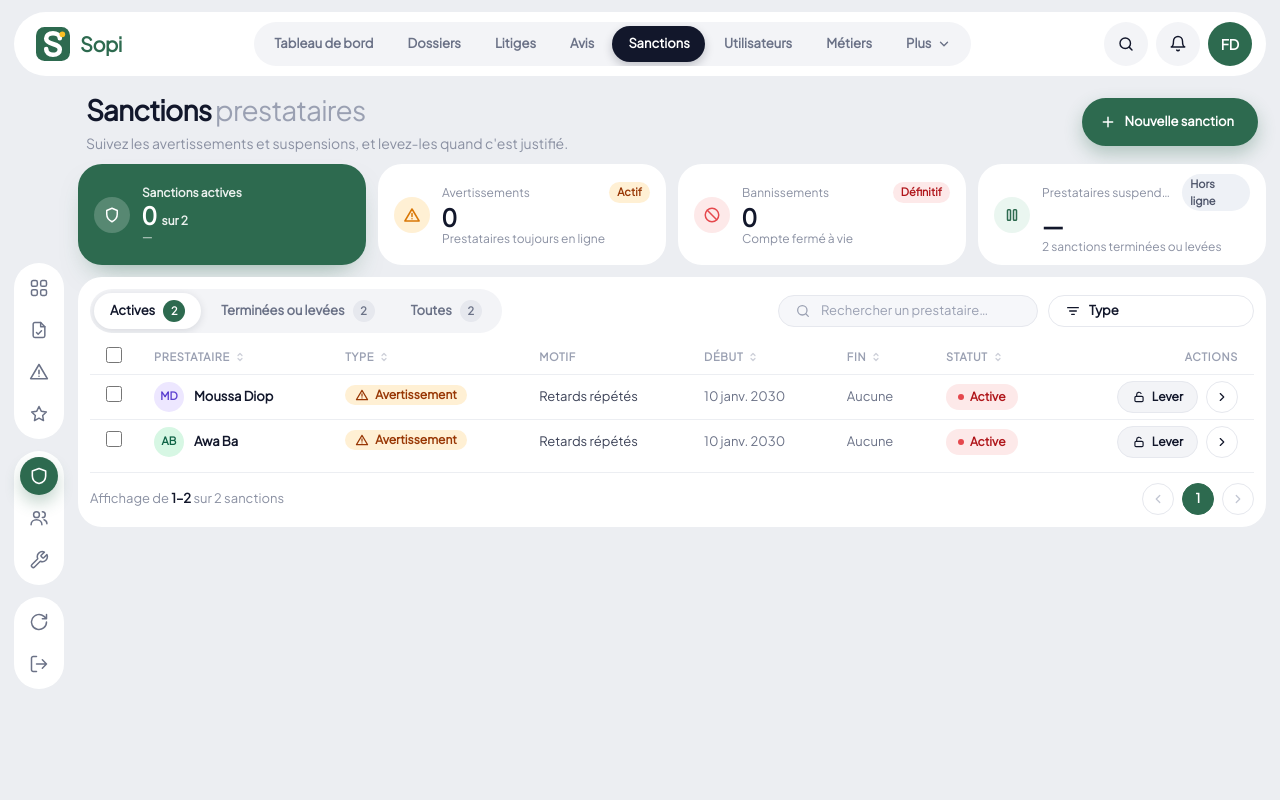
Test: Sanctions : tri, sélection et levée groupée › annuler ne lance aucun appel et garde la sélection
expect the table named "Liste des sanctions" is shown: met, box [90,341,1254,464]
Click the checkbox named "Tout sélectionner" at (114, 355), box [106,347,122,363]
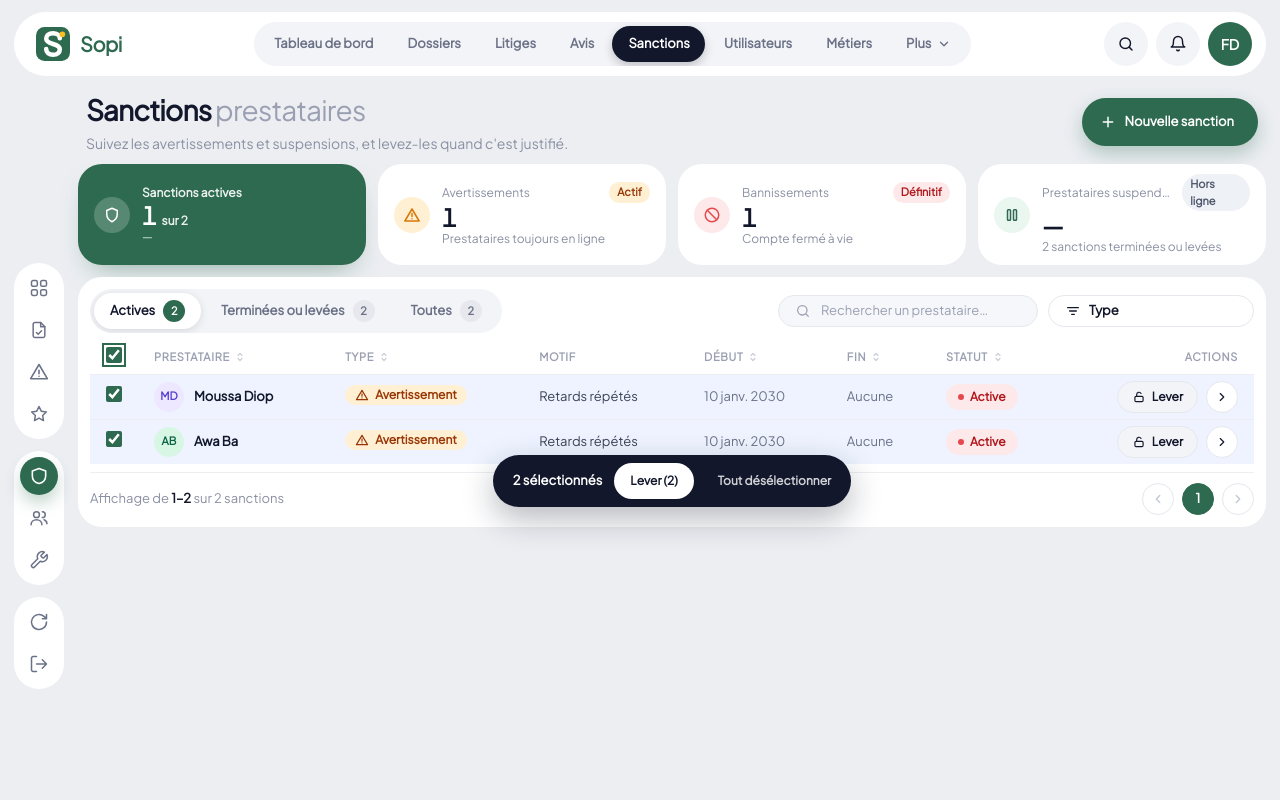
Click the button "Lever (2)" at (654, 480), box [614,462,694,498]
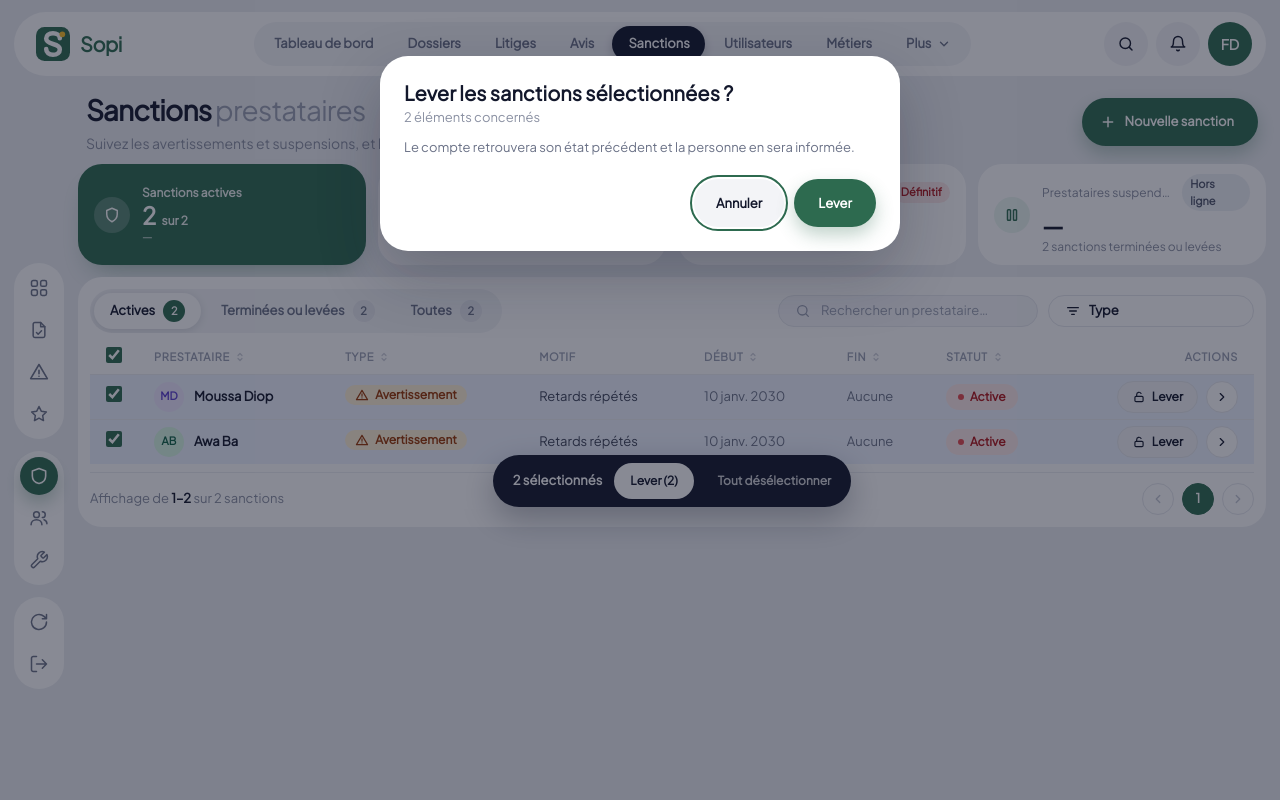
Click the button "Annuler" at (739, 203), box [694,179,784,227]
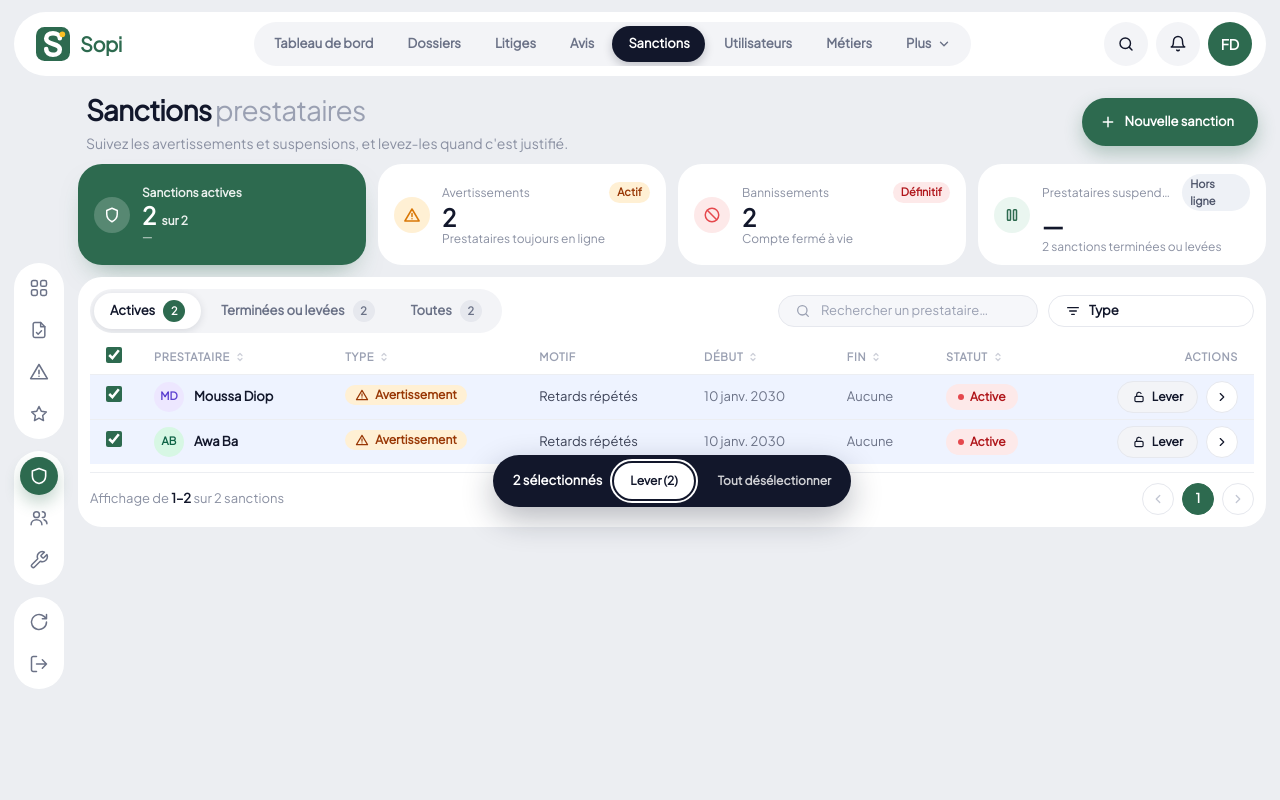
expect the element named "Actions groupées" is shown: met, box [493,454,851,506]
expect the dialog is gone: met
